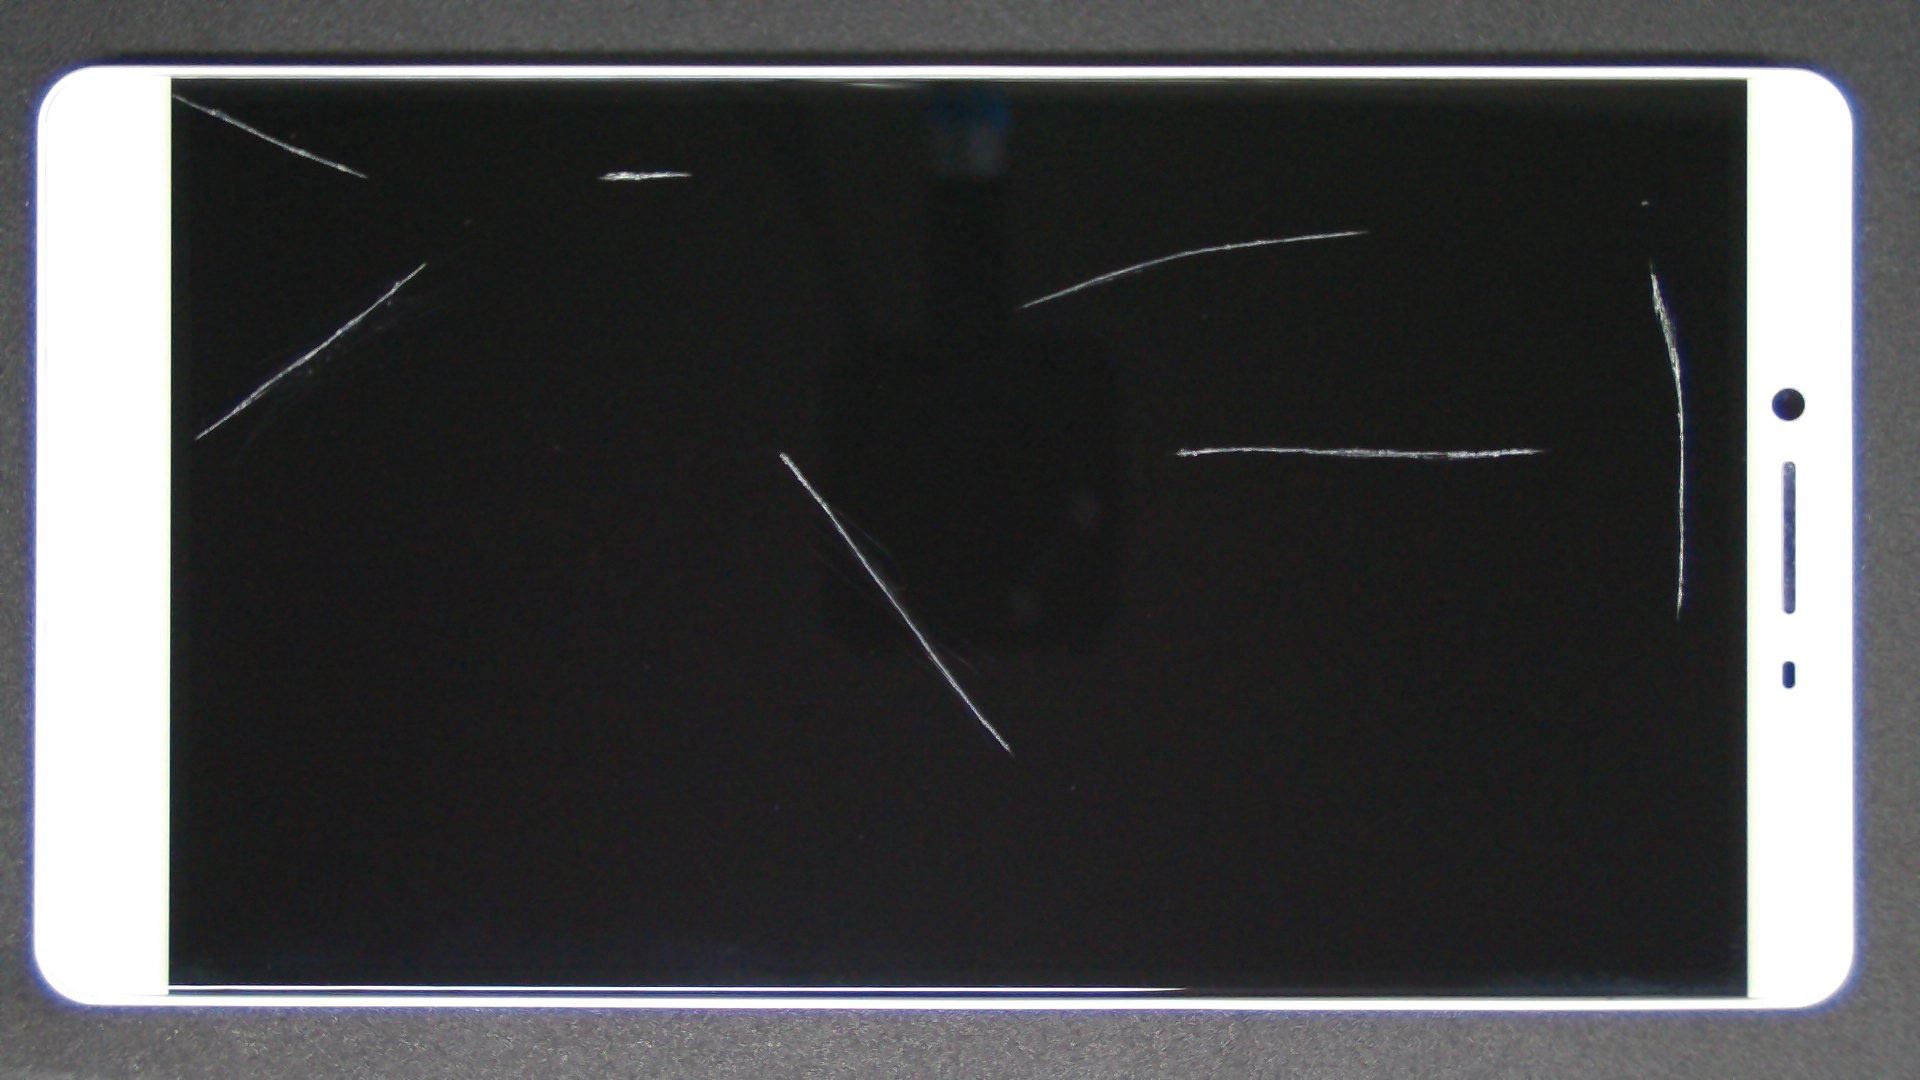oil: (626, 222, 1879, 669), (393, 225, 1175, 676), (827, 135, 1920, 407), (684, 115, 1920, 345), (212, 131, 634, 396), (309, 84, 922, 256), (86, 46, 258, 138)
